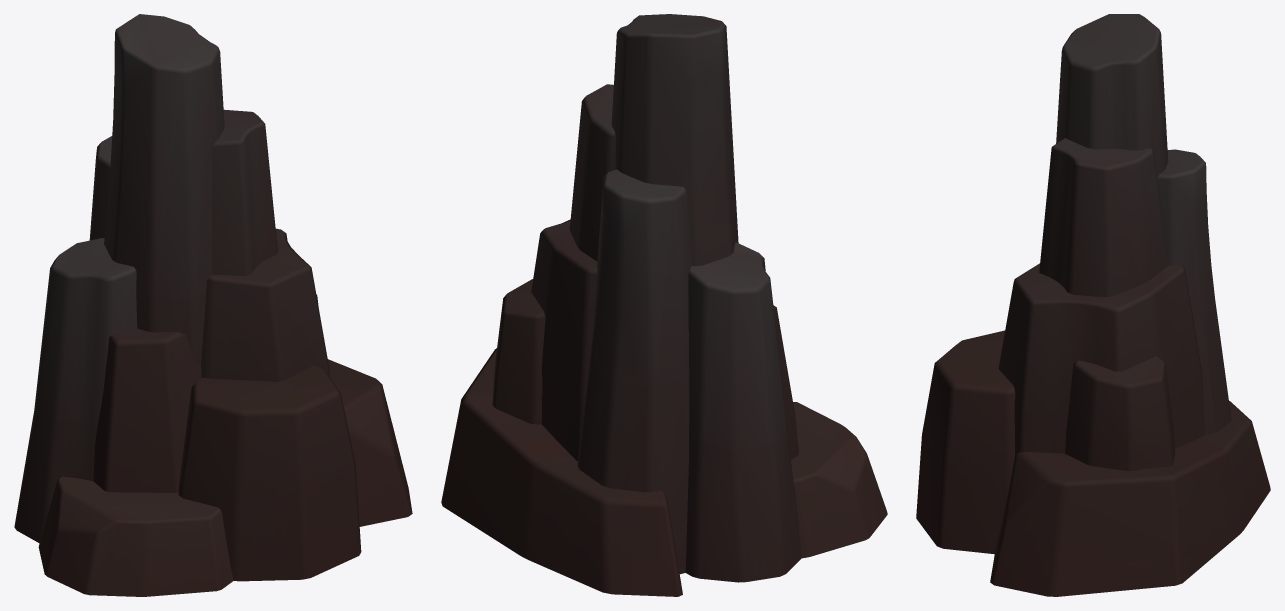
The model's file is hl_rockbig_c.glb.
The picture shows the model from 3 angles, left to right: view 1: azimuth 30°, elevation 25°; view 2: azimuth 150°, elevation 25°; view 3: azimuth 270°, elevation 25°; orthographic projection. The views are drawn at different scales.
Parts seen in each view (by area): view 1: hl_rockbig_c; view 2: hl_rockbig_c; view 3: hl_rockbig_c.
Boxes of the visible parts, x1,y1,x2,y2 form: hl_rockbig_c: (14,14,412,596); hl_rockbig_c: (441,14,887,596); hl_rockbig_c: (916,14,1270,596).
Size of the model in its own units: 13.47 by 17.17 by 11.79.
